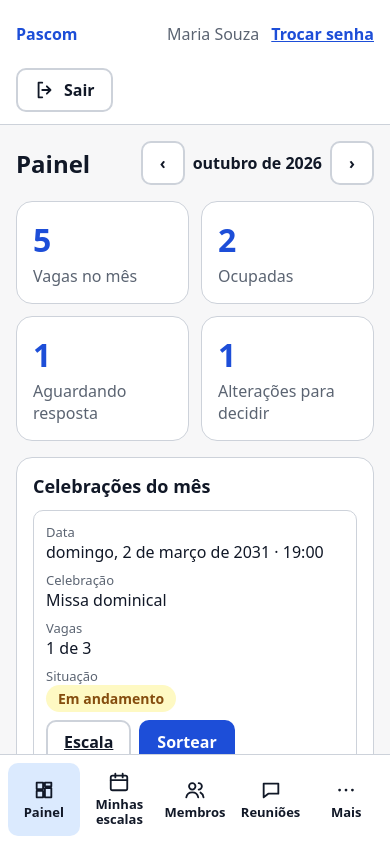
Barra inferior do celular › com mais de 5 itens, mostra os 4 principais e o resto fica em "Mais"
Expected: the links read "Painel", "Minhas escalas", "Membros", "Reuniões", in this order, left=8, top=763, right=80, bottom=836; left=96, top=771, right=143, bottom=828; left=164, top=779, right=226, bottom=821; left=241, top=779, right=300, bottom=821
Click the button "Mais". click: (346,799)
box: left=310, top=763, right=382, bottom=836
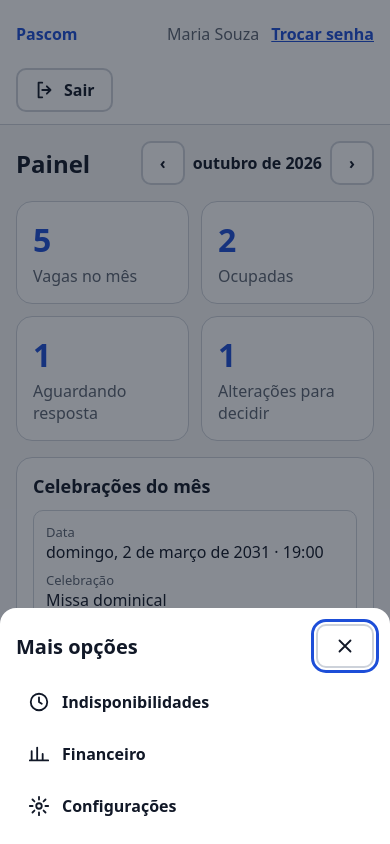
Expected: the links read "Indisponibilidades", "Financeiro", "Configurações", in this order, left=28, top=691, right=209, bottom=713; left=28, top=743, right=146, bottom=765; left=28, top=795, right=176, bottom=817
